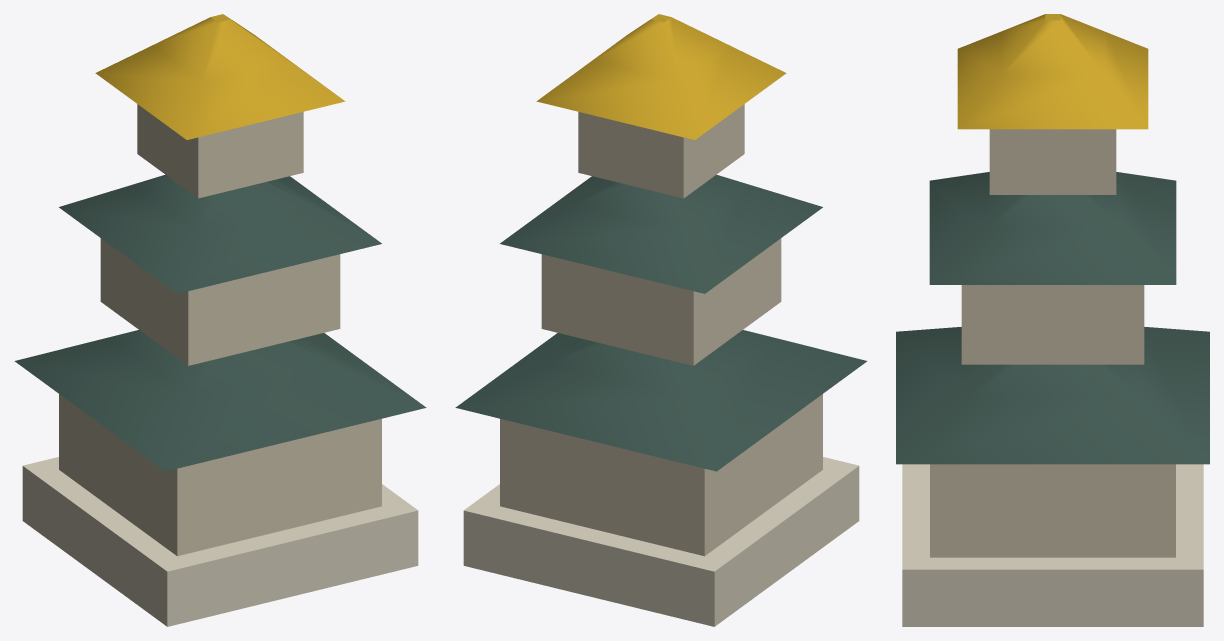
File: cang_jing_ge.glb
3 renders of one model, left to right at view 1: azimuth 30°, elevation 25°; view 2: azimuth 150°, elevation 25°; view 3: azimuth 270°, elevation 25°, orthographic. The views are drawn at different scales.
Parts seen in each view (by area): view 1: _MeshInstance3D_74, _MeshInstance3D_72, _MeshInstance3D_73, _MeshInstance3D_76, _MeshInstance3D_75, _MeshInstance3D_78, _MeshInstance3D_77; view 2: _MeshInstance3D_74, _MeshInstance3D_72, _MeshInstance3D_73, _MeshInstance3D_76, _MeshInstance3D_75, _MeshInstance3D_78, _MeshInstance3D_77; view 3: _MeshInstance3D_74, _MeshInstance3D_72, _MeshInstance3D_76, _MeshInstance3D_73, _MeshInstance3D_78, _MeshInstance3D_75, _MeshInstance3D_77.
Part boxes in pixels (box(x1,y1,x2,y2)): _MeshInstance3D_74: box(14, 330, 426, 471); _MeshInstance3D_72: box(22, 457, 418, 626); _MeshInstance3D_73: box(59, 394, 381, 556); _MeshInstance3D_76: box(59, 174, 381, 293); _MeshInstance3D_75: box(100, 238, 340, 365); _MeshInstance3D_78: box(95, 14, 345, 139); _MeshInstance3D_77: box(137, 104, 303, 198); _MeshInstance3D_74: box(455, 330, 867, 471); _MeshInstance3D_72: box(463, 457, 859, 626); _MeshInstance3D_73: box(500, 394, 822, 556); _MeshInstance3D_76: box(500, 174, 822, 293); _MeshInstance3D_75: box(541, 238, 781, 365); _MeshInstance3D_78: box(536, 14, 786, 139); _MeshInstance3D_77: box(578, 104, 744, 198); _MeshInstance3D_74: box(896, 327, 1209, 464); _MeshInstance3D_72: box(902, 464, 1203, 626); _MeshInstance3D_76: box(929, 172, 1176, 284); _MeshInstance3D_73: box(930, 464, 1175, 557); _MeshInstance3D_78: box(957, 14, 1148, 129); _MeshInstance3D_75: box(961, 285, 1144, 364); _MeshInstance3D_77: box(989, 129, 1116, 194).
Size of the model in its own units: 0.792 by 1.52 by 0.792.
